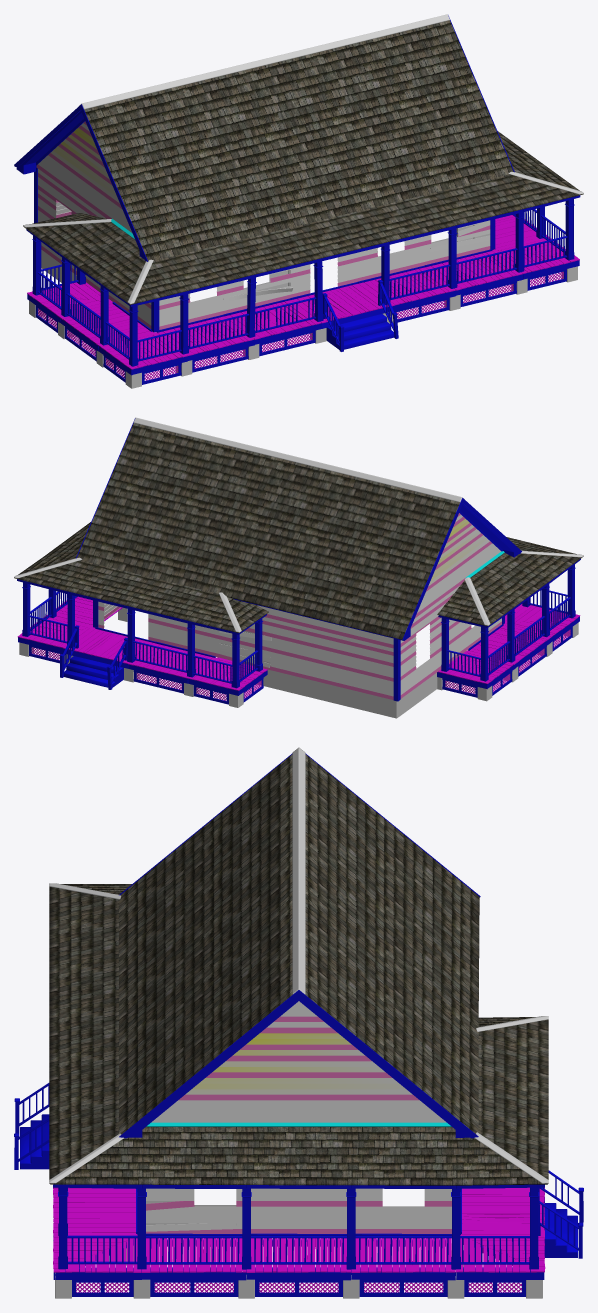
File: House.fbx
3 views of the same model, one above another, from view 1: azimuth 30°, elevation 25°; view 2: azimuth 150°, elevation 25°; view 3: azimuth 270°, elevation 25° (orthographic). The views are drawn at different scales.
Parts seen in each view (by area): view 1: House, RoofRidge; view 2: House, RoofRidge; view 3: House, RoofRidge.
Part boxes in pixels (x1,y1,x2,y2): House: [14, 15, 583, 388]; RoofRidge: [23, 14, 583, 304]; House: [14, 418, 583, 718]; RoofRidge: [14, 417, 583, 632]; House: [14, 753, 583, 1298]; RoofRidge: [49, 747, 548, 1183].
Size of the model in its own units: 1692 by 747 by 1361.
